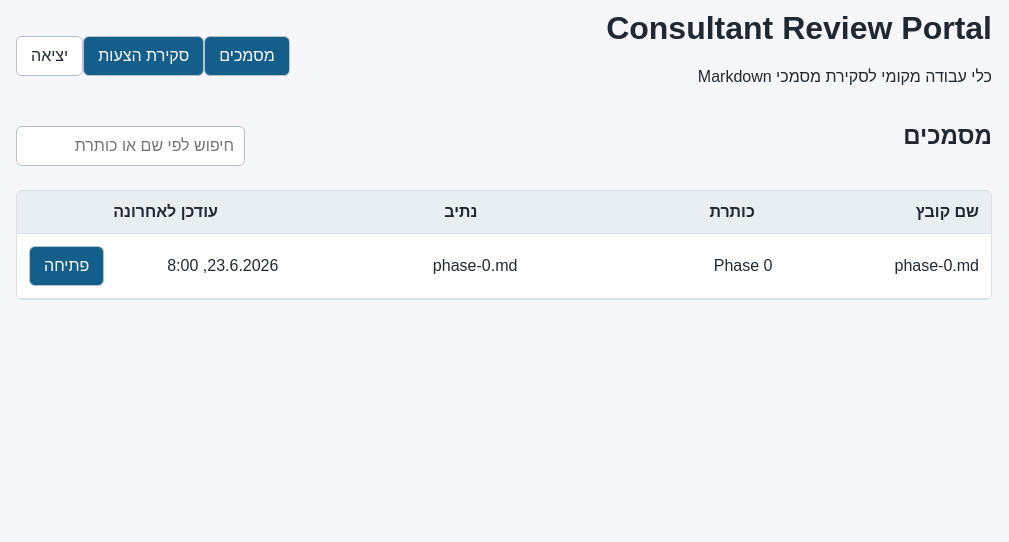
Scenario: App › renders a document viewer
Click the button "פתיחה": [67, 266] box [29,246,104,286]
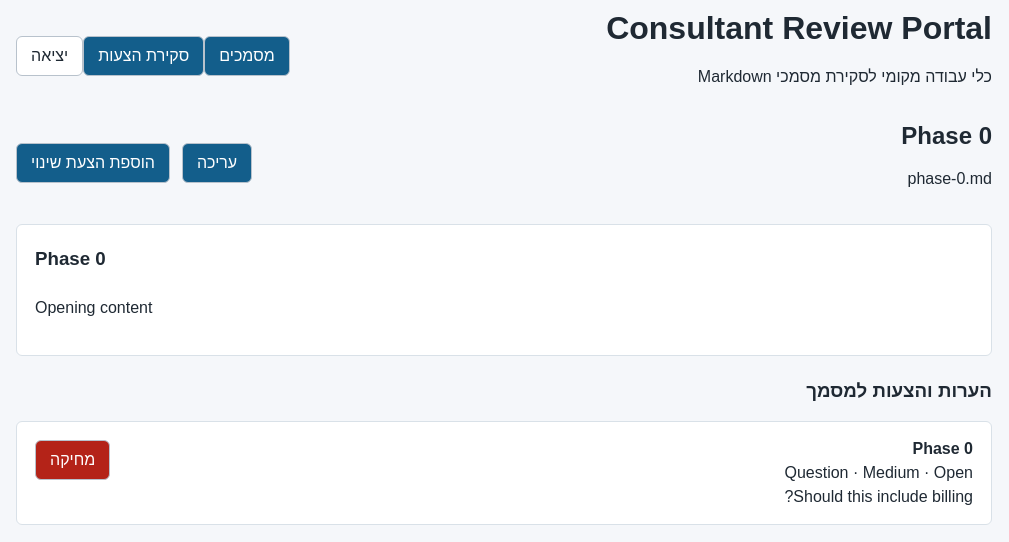
Expected: the number of headings "Phase 0" is 2, [901,122,992,150]; [35,248,106,269]
Expected: the text "Opening content" is shown, [35,299,152,316]
Expected: the text "Should this include billing?" is shown, [784,488,973,505]
